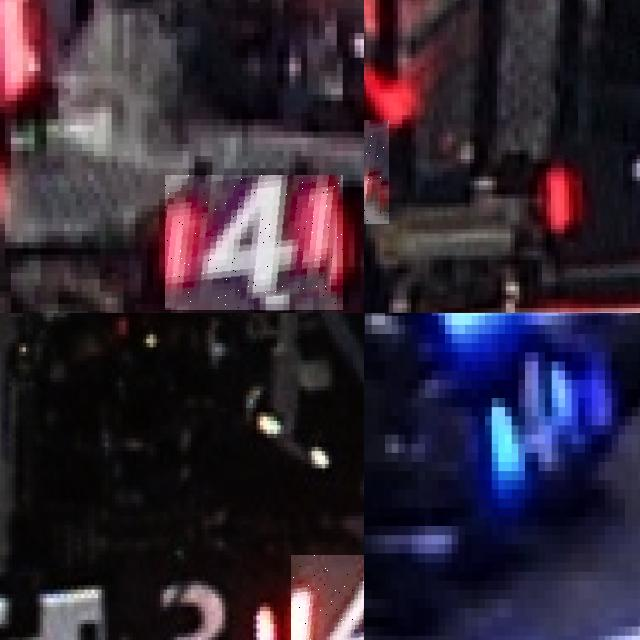B4: (478, 334, 578, 508)
R1: (537, 132, 640, 246), (364, 119, 388, 224)
R4: (165, 175, 343, 310), (290, 555, 364, 640)
